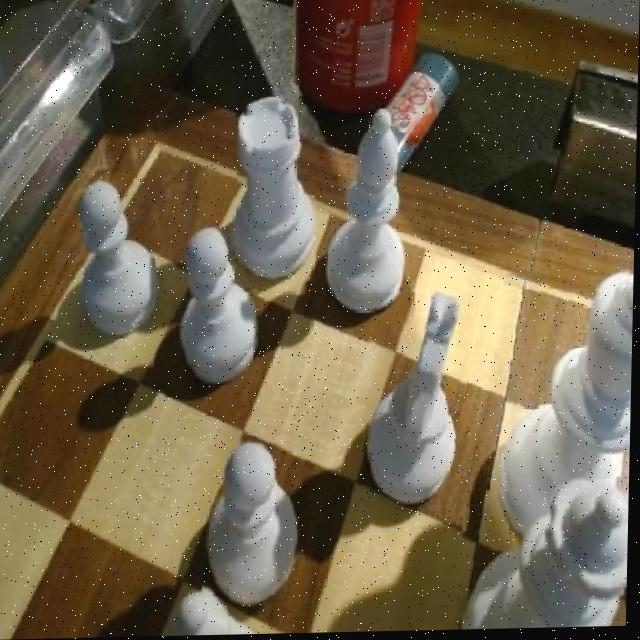black-rook: (328, 108, 419, 314)
white-bishop: (502, 271, 635, 550)
white-king: (366, 292, 473, 513)
white-knight: (206, 443, 306, 610), (80, 177, 167, 340), (176, 228, 263, 385)
white-pawn: (464, 481, 631, 631)
white-queen: (235, 99, 320, 291)
